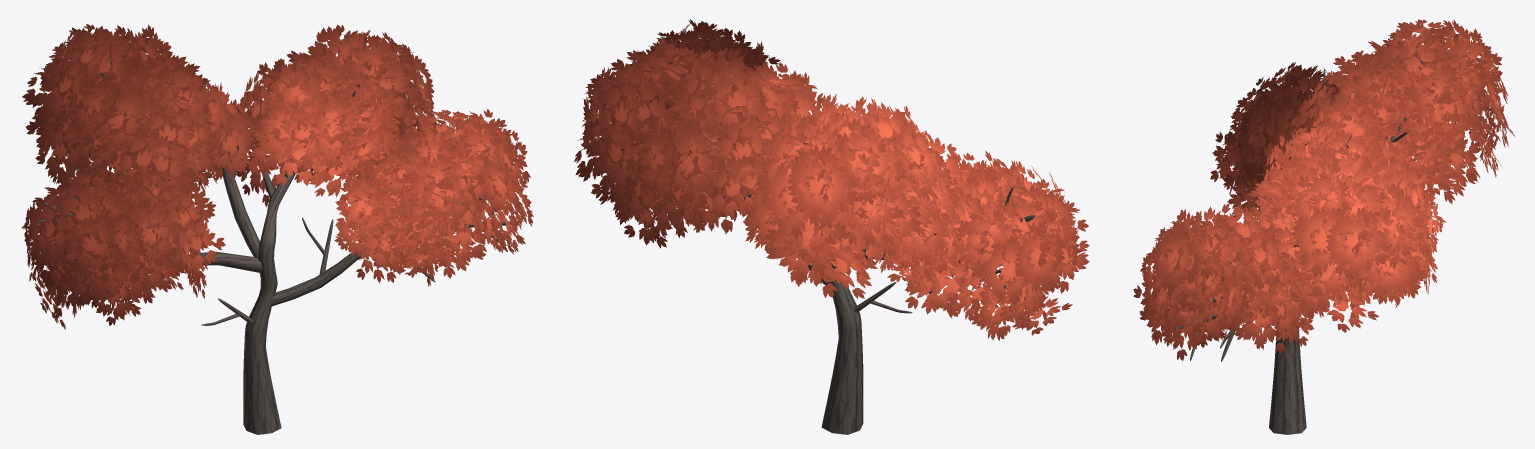
Rendered from MapleTree_3.glb.
3 views of the same model, side by side, from view 1: azimuth 30°, elevation 25°; view 2: azimuth 150°, elevation 25°; view 3: azimuth 270°, elevation 25° (orthographic). The views are drawn at different scales.
Visible parts, largest first — view 1: MapleTree_3; view 2: MapleTree_3; view 3: MapleTree_3.
Boxes of the visible parts, x1,y1,x2,y2 form: MapleTree_3: (21, 24, 533, 434); MapleTree_3: (574, 19, 1089, 434); MapleTree_3: (1133, 19, 1514, 434).
Size of the model in its own units: 8.98 by 6.99 by 6.61.
Materials: 2 (2 with a texture image).
